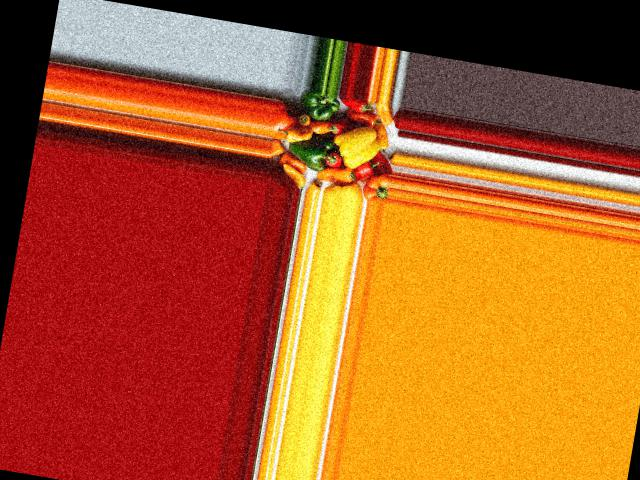bell_pepper: (340, 95, 374, 118)
